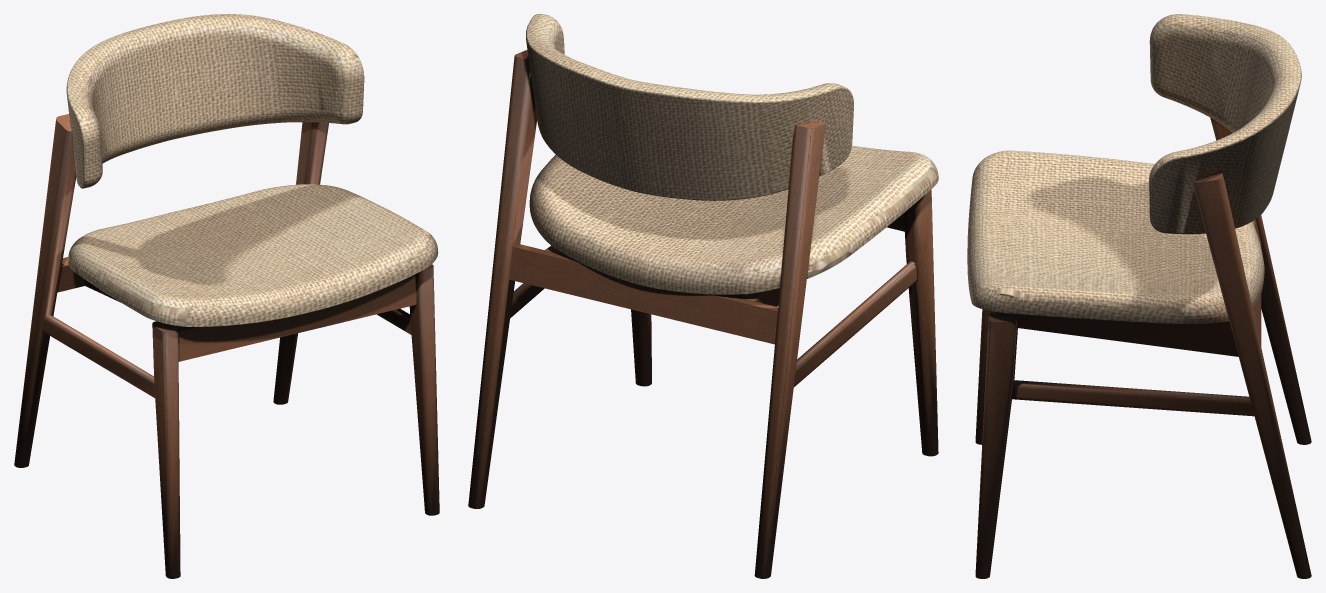
The picture shows the model from 3 angles, left to right: view 1: azimuth 30°, elevation 25°; view 2: azimuth 150°, elevation 25°; view 3: azimuth 270°, elevation 25°; orthographic projection. The views are drawn at different scales.
Parts seen in each view (by area): view 1: C-ACENTO CAD.STL, C-ENCOSTO CAD.STL, C-ESTRUTURA CAD.STL; view 2: C-ESTRUTURA CAD.STL, C-ACENTO CAD.STL, C-ENCOSTO CAD.STL; view 3: C-ACENTO CAD.STL, C-ESTRUTURA CAD.STL, C-ENCOSTO CAD.STL.
Part boxes in pixels (x1=…): C-ACENTO CAD.STL: x1=68, y1=184, x2=438, y2=326; C-ENCOSTO CAD.STL: x1=66, y1=14, x2=364, y2=188; C-ESTRUTURA CAD.STL: x1=14, y1=114, x2=439, y2=578; C-ESTRUTURA CAD.STL: x1=468, y1=50, x2=938, y2=578; C-ACENTO CAD.STL: x1=529, y1=145, x2=938, y2=294; C-ENCOSTO CAD.STL: x1=526, y1=14, x2=853, y2=200; C-ACENTO CAD.STL: x1=967, y1=150, x2=1264, y2=323; C-ESTRUTURA CAD.STL: x1=975, y1=118, x2=1311, y2=578; C-ENCOSTO CAD.STL: x1=1149, y1=14, x2=1301, y2=234.
Bounding box in the file's own units: 0.5398 × 0.7316 × 0.5222.
2 materials, 2 textured.
